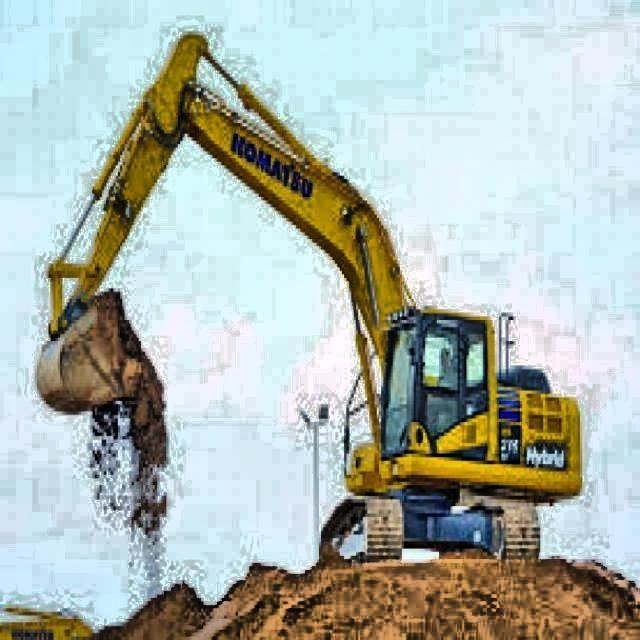bull_dozer/loader/grader: (34, 30, 584, 563)
person: (428, 346, 457, 429)
